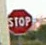stop: (6, 8, 32, 35)
